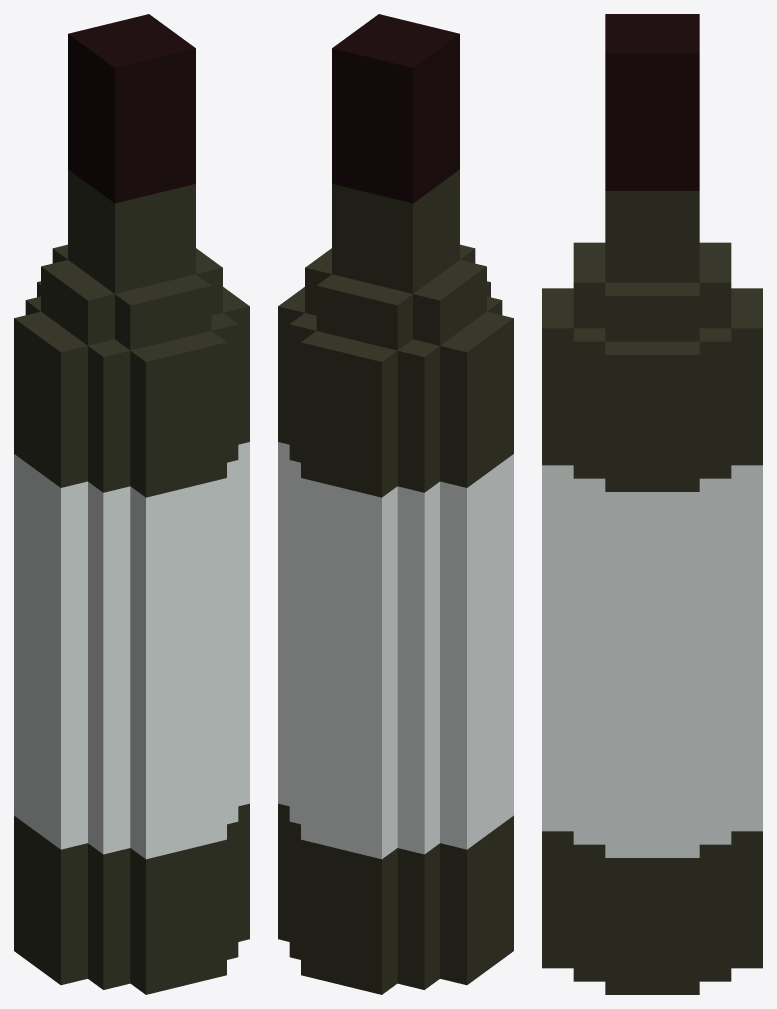
The model's file is vin1.fbx.
3 renders of one model, left to right at view 1: azimuth 30°, elevation 25°; view 2: azimuth 150°, elevation 25°; view 3: azimuth 270°, elevation 25°, orthographic.
Parts seen in each view (by area): view 1: Vin; view 2: Vin; view 3: Vin.
Part boxes in pixels (<box>): Vin: <box>14,14,249,994</box>; Vin: <box>278,14,513,994</box>; Vin: <box>542,14,762,994</box>.
Bounding box in the file's own units: 7 × 32 × 7.
1 material, 1 textured.
